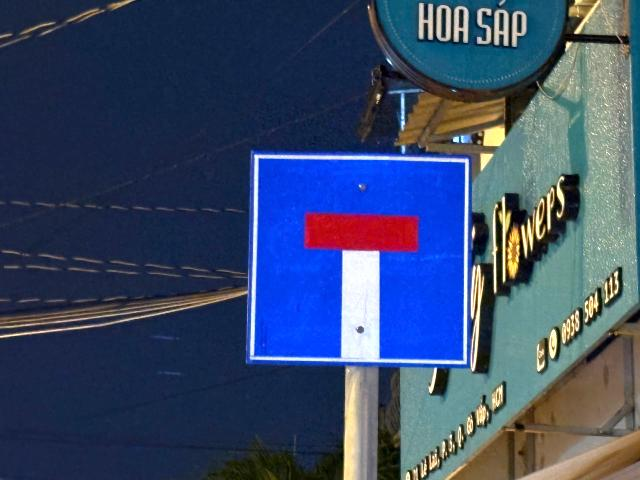duong-cut: (246, 149, 472, 369)
